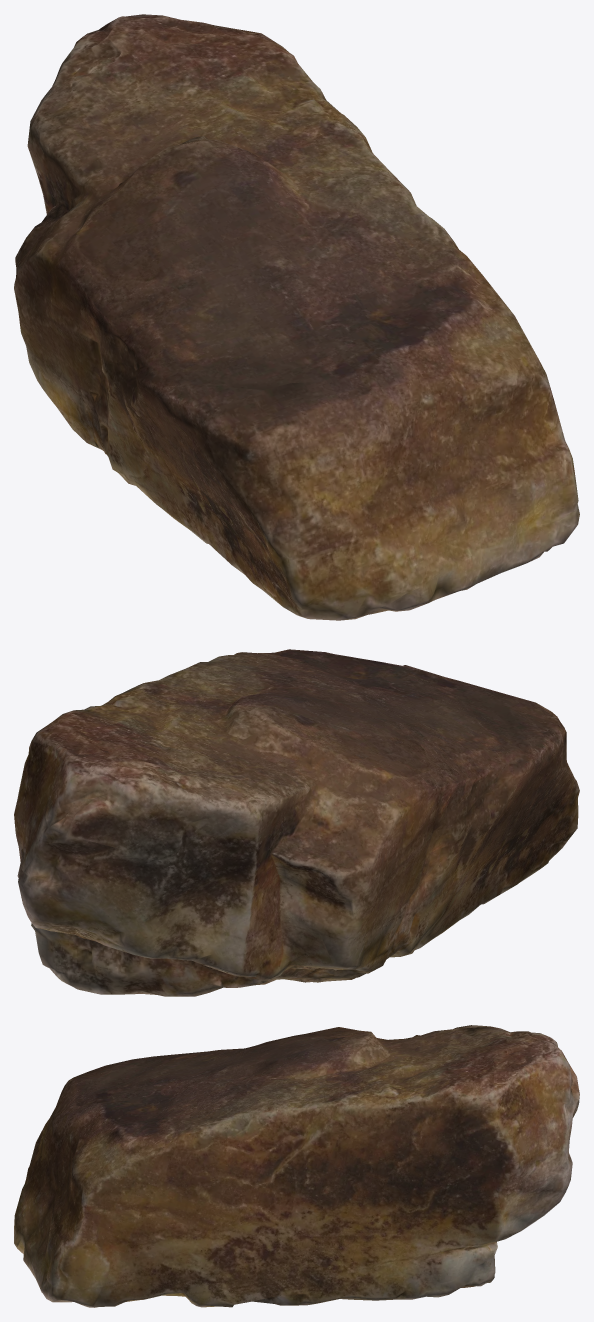
Rendered from rock_07.glb.
3 renders of one model, top to bottom at view 1: azimuth 30°, elevation 25°; view 2: azimuth 150°, elevation 25°; view 3: azimuth 270°, elevation 25°, orthographic. The views are drawn at different scales.
Visible parts, largest first — view 1: rock_07; view 2: rock_07; view 3: rock_07.
Boxes of the visible parts, left/top/right/bottom form: rock_07: left=14, top=14, right=579, bottom=620; rock_07: left=14, top=649, right=579, bottom=996; rock_07: left=14, top=1025, right=579, bottom=1307.
Size of the model in its own units: 0.1686 by 0.1437 by 0.3199.
Materials: 1 (1 with a texture image).
